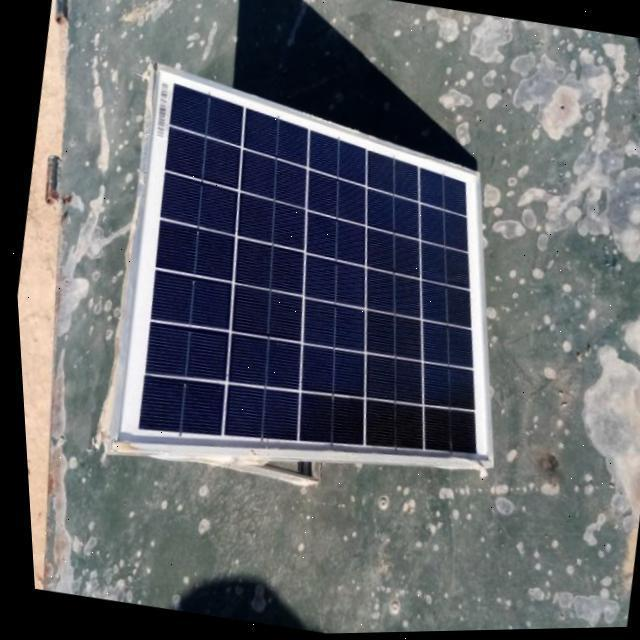Normal Solar Panel: (83, 57, 549, 510)
